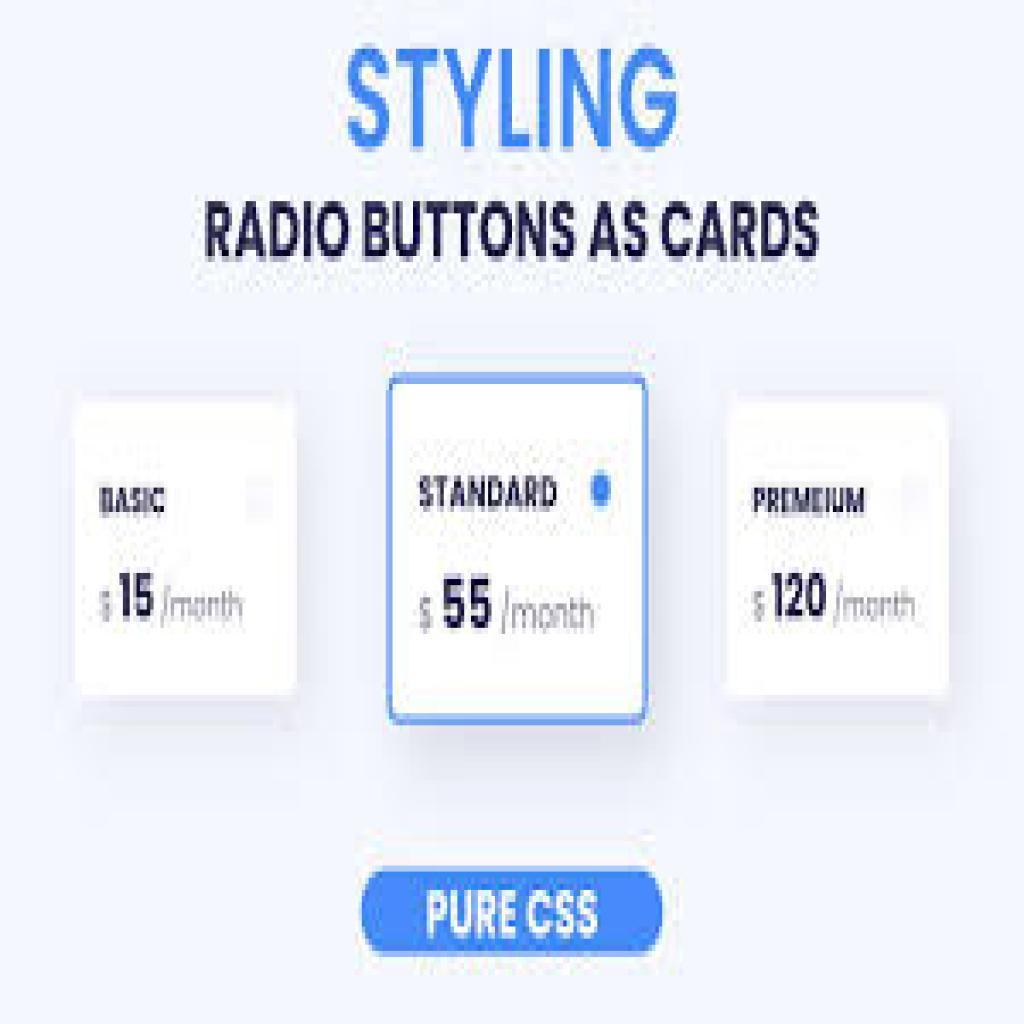button: (364, 869, 665, 957)
radio: (580, 464, 620, 513)
